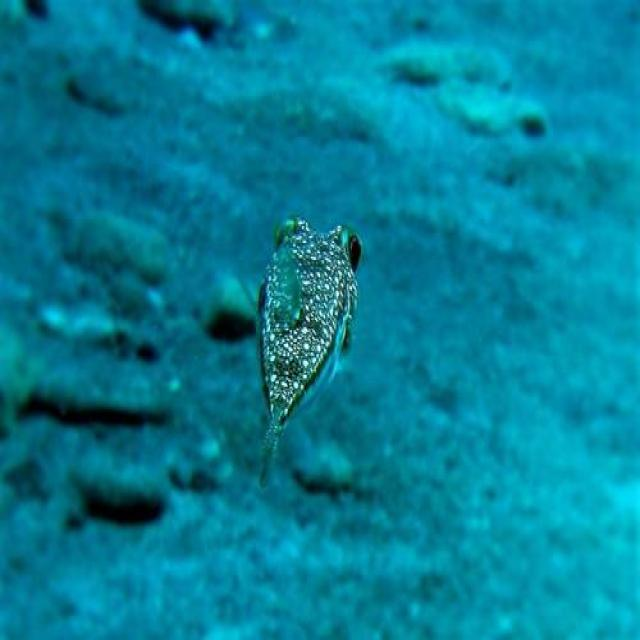Balik: (259, 218, 360, 485)
